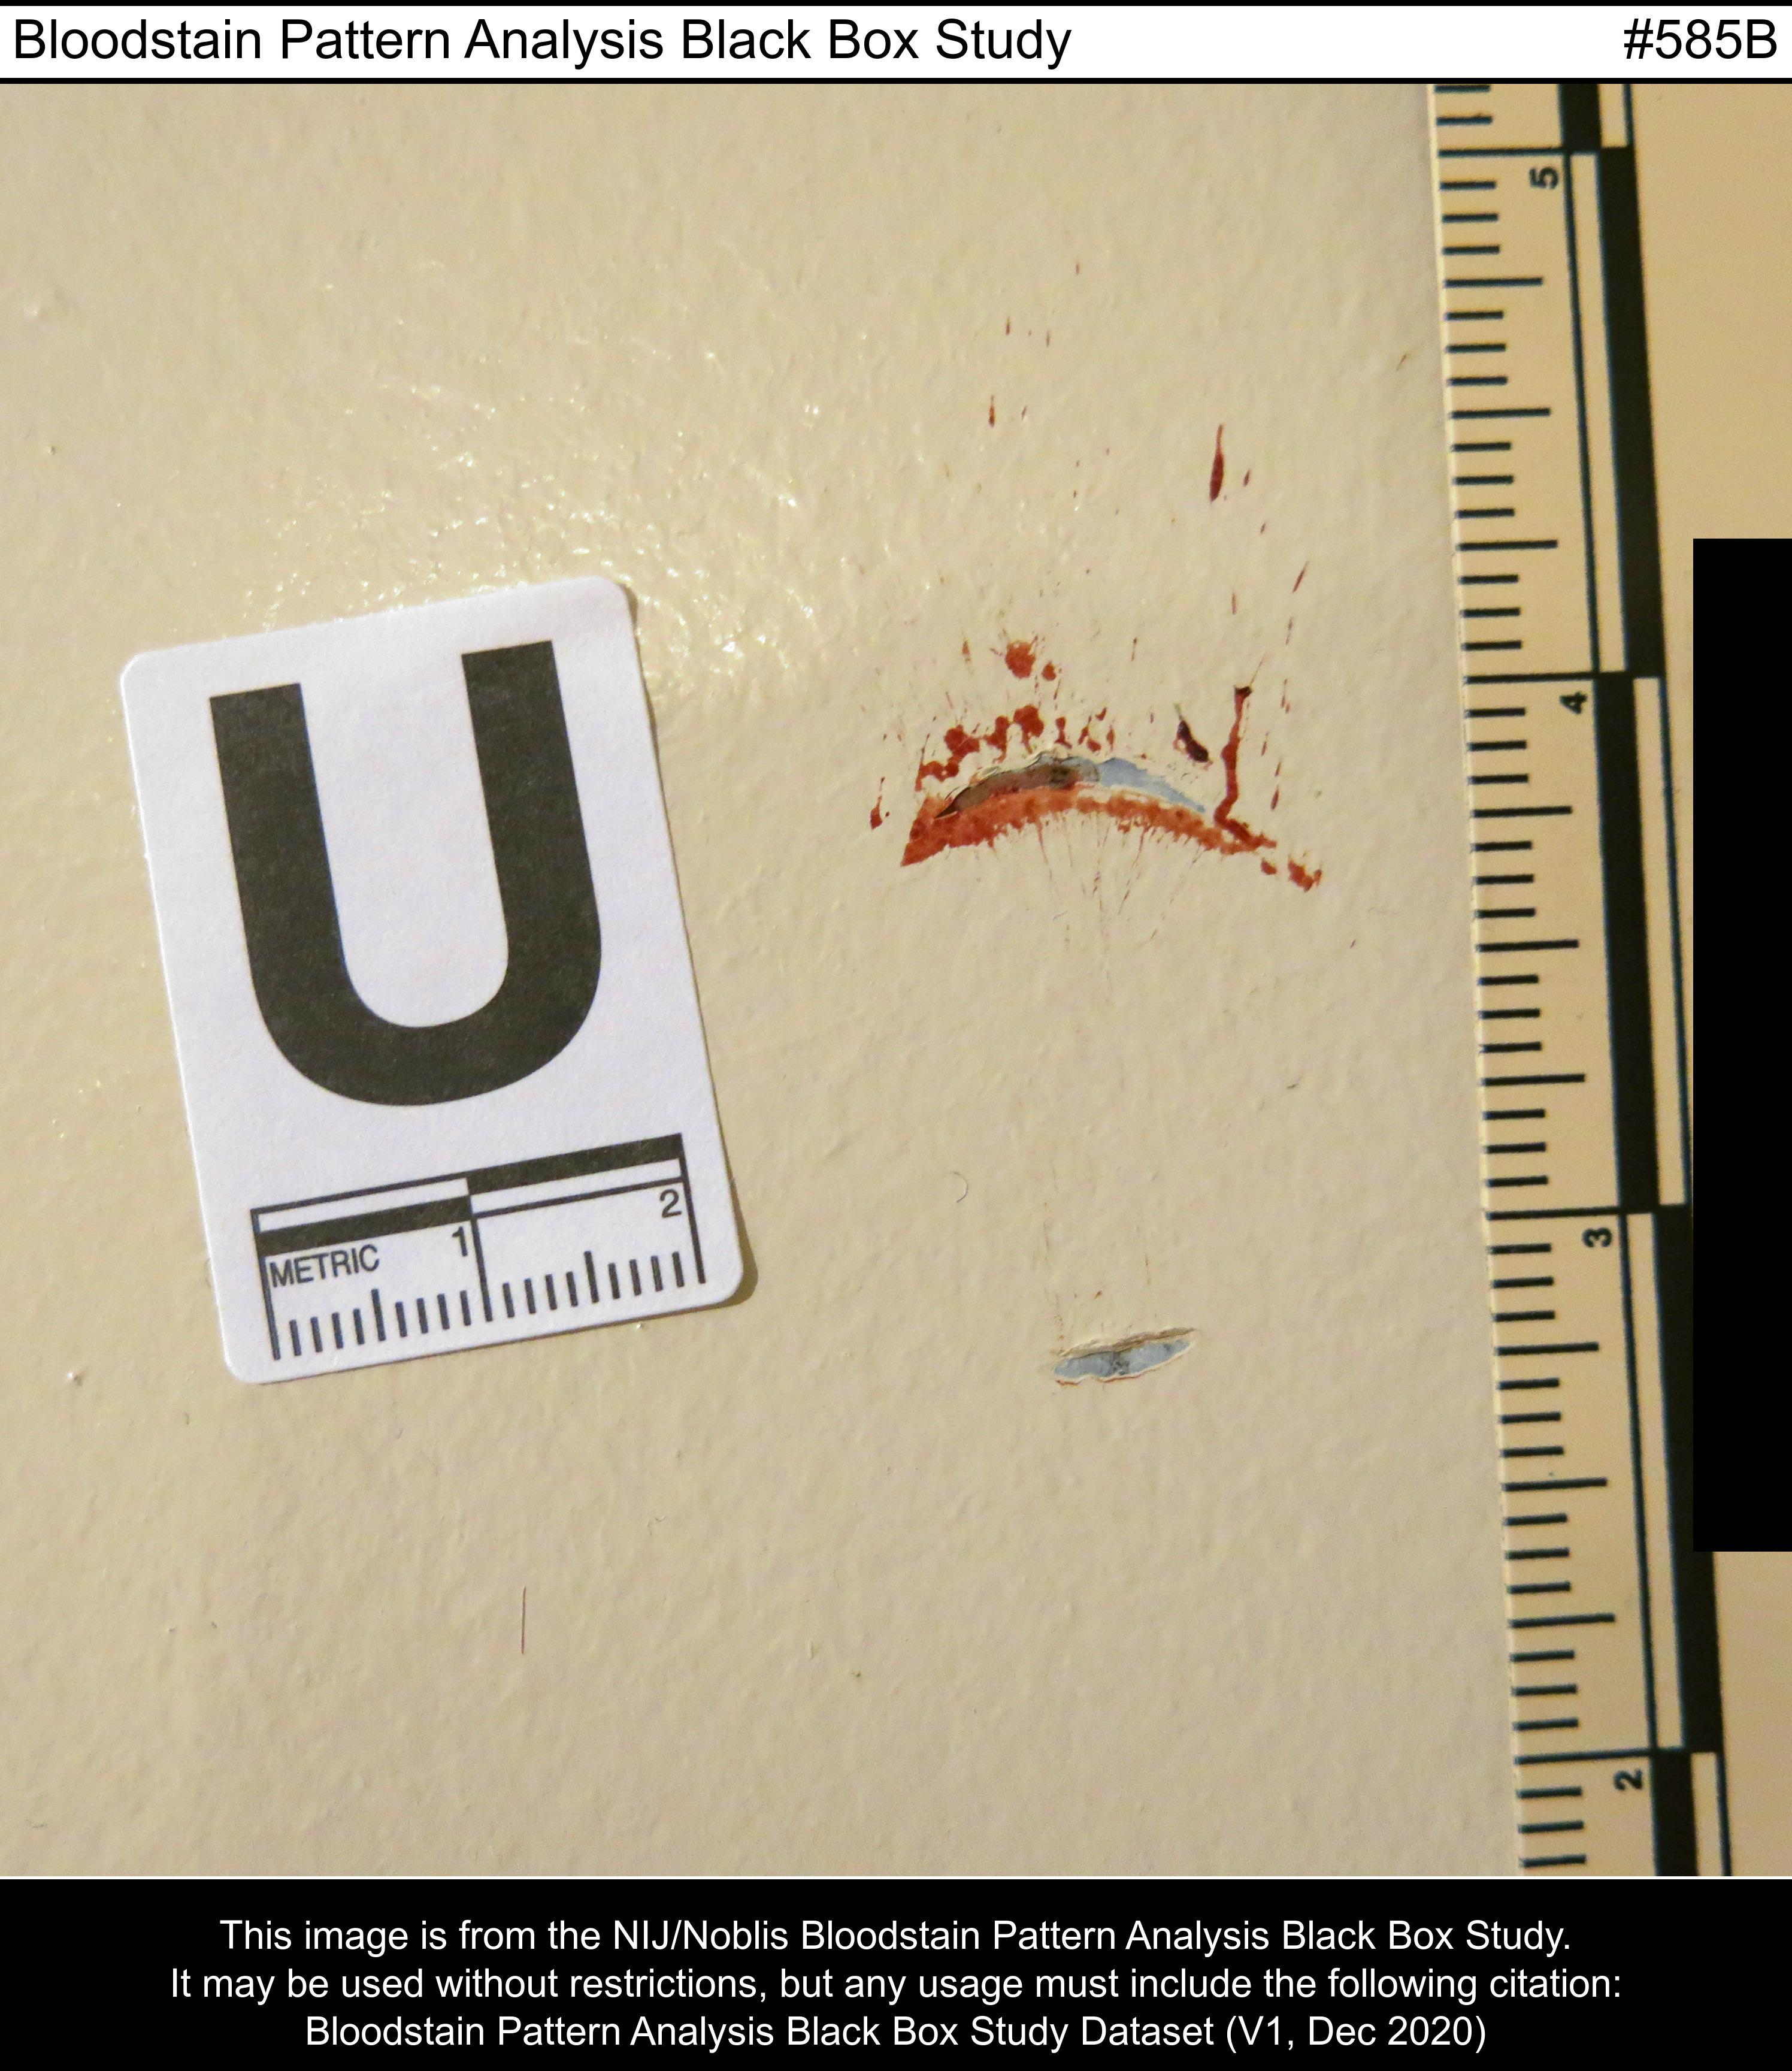Impact: (871, 509, 1387, 1057)
